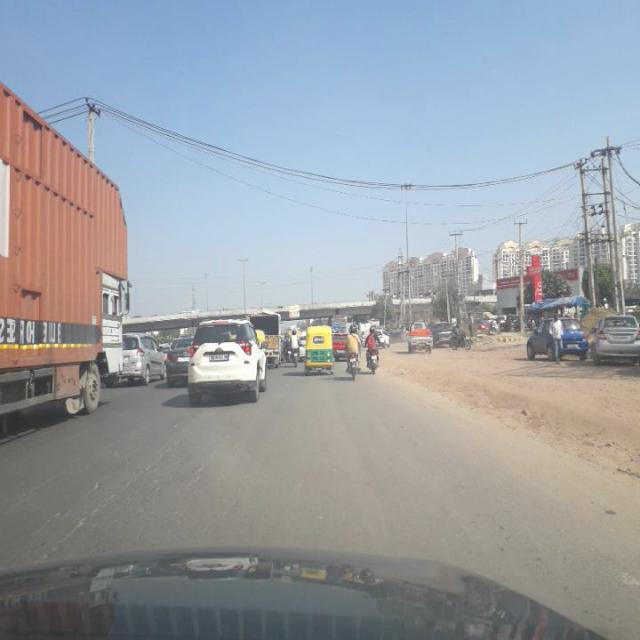crack: (46, 410, 205, 556)
